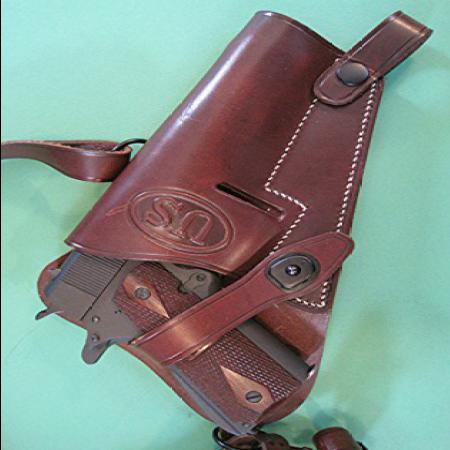Pistol: (23, 12, 380, 445)
